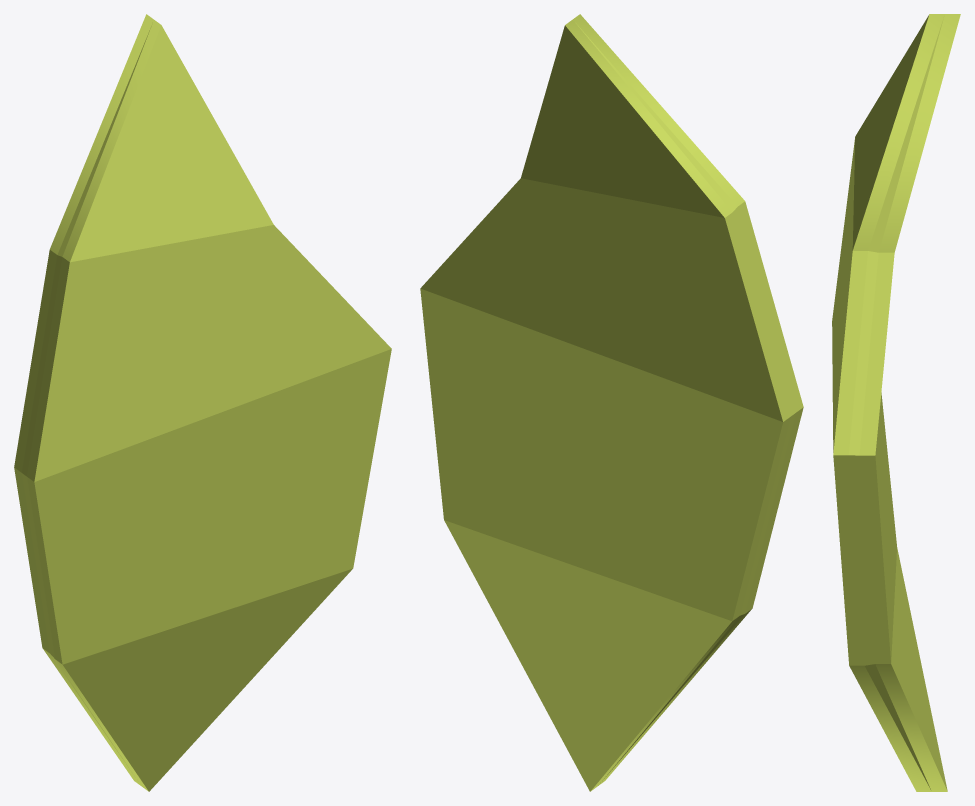
Rendered from LeaveBent_a_02.fbx.
3 views of the same model, side by side, from view 1: azimuth 30°, elevation 25°; view 2: azimuth 150°, elevation 25°; view 3: azimuth 270°, elevation 25° (orthographic). The views are drawn at different scales.
Visible parts, largest first — view 1: LeaveBent_a_02_LOD0; view 2: LeaveBent_a_02_LOD0; view 3: LeaveBent_a_02_LOD0.
Part boxes in pixels (box(x1,y1,x2,y2)): LeaveBent_a_02_LOD0: box(14, 14, 391, 791); LeaveBent_a_02_LOD0: box(420, 14, 803, 791); LeaveBent_a_02_LOD0: box(832, 14, 960, 791).
Size of what is drawn, in the model's own units: 4.68 by 9.47 by 1.4.
